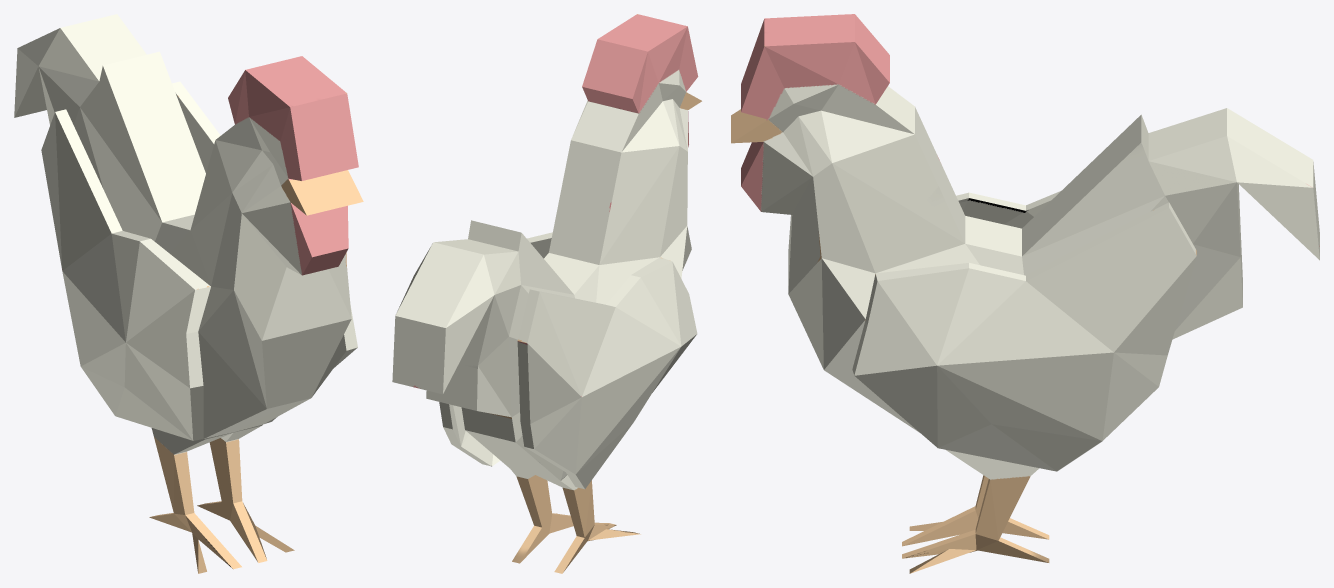
The model's file is chicken.glb.
3 views of the same model, side by side, from view 1: azimuth 30°, elevation 25°; view 2: azimuth 150°, elevation 25°; view 3: azimuth 270°, elevation 25° (orthographic). The views are drawn at different scales.
Visible parts, largest first — view 1: Chicken; view 2: Chicken; view 3: Chicken.
Part boxes in pixels (box(x1,y1,x2,y2)): Chicken: box(14, 14, 363, 573); Chicken: box(392, 14, 701, 573); Chicken: box(731, 14, 1319, 573).
Bounding box in the file's own units: 0.7511 × 1.74 × 1.78.
1 material, 1 textured.
